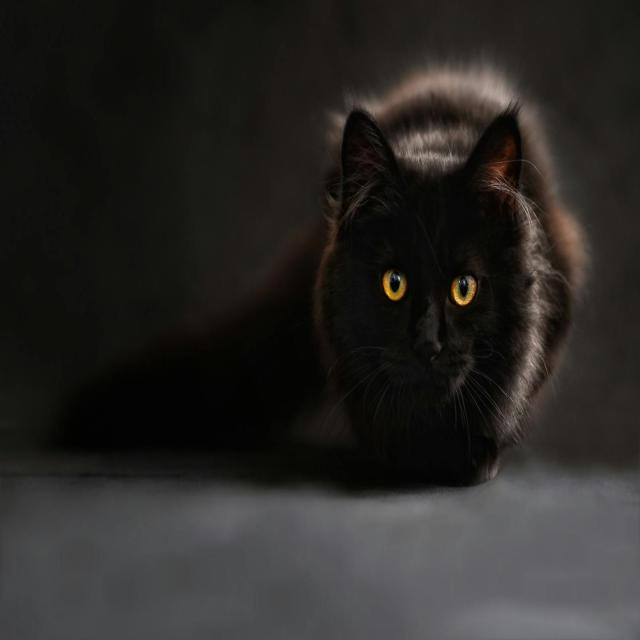Cat: (51, 58, 592, 490)
